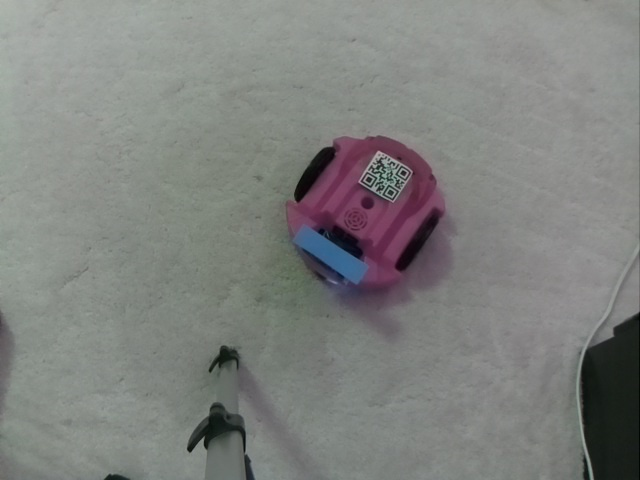chassis: (282, 125, 448, 288)
qr: (358, 148, 417, 208)
